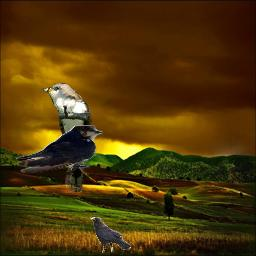Crow: (90, 217, 131, 253)
Cuckoo: (40, 83, 92, 192)
Swallow: (16, 125, 103, 173)
